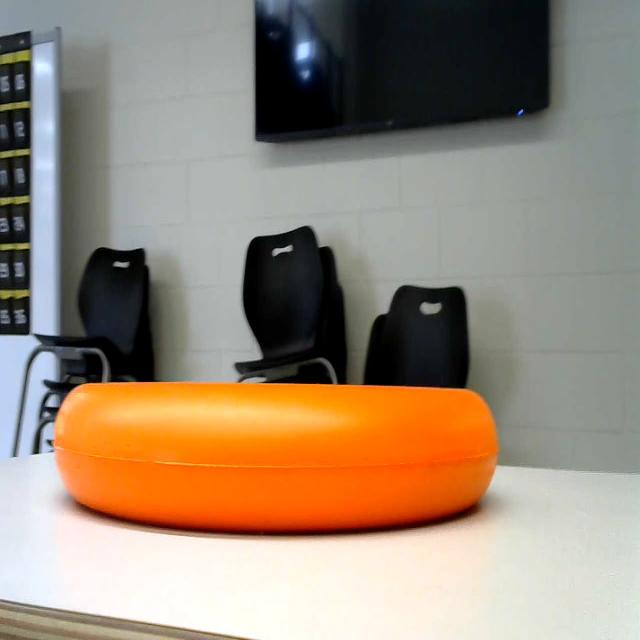note: (42, 372, 509, 532)
